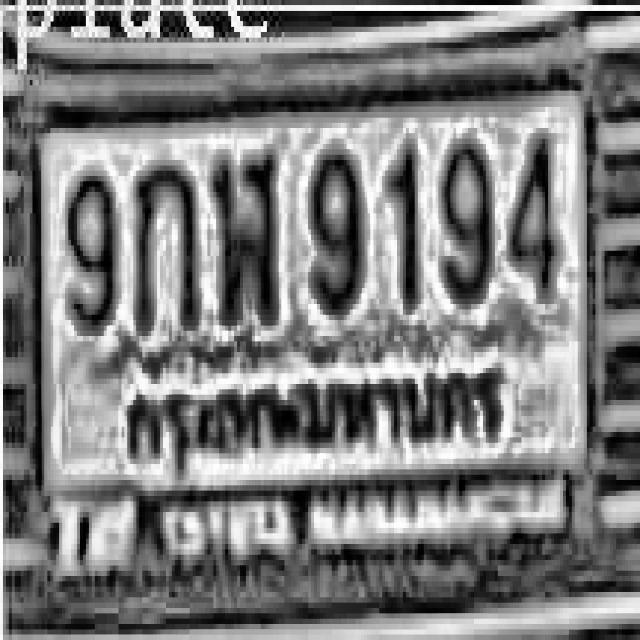license-plate: (22, 52, 604, 587)
